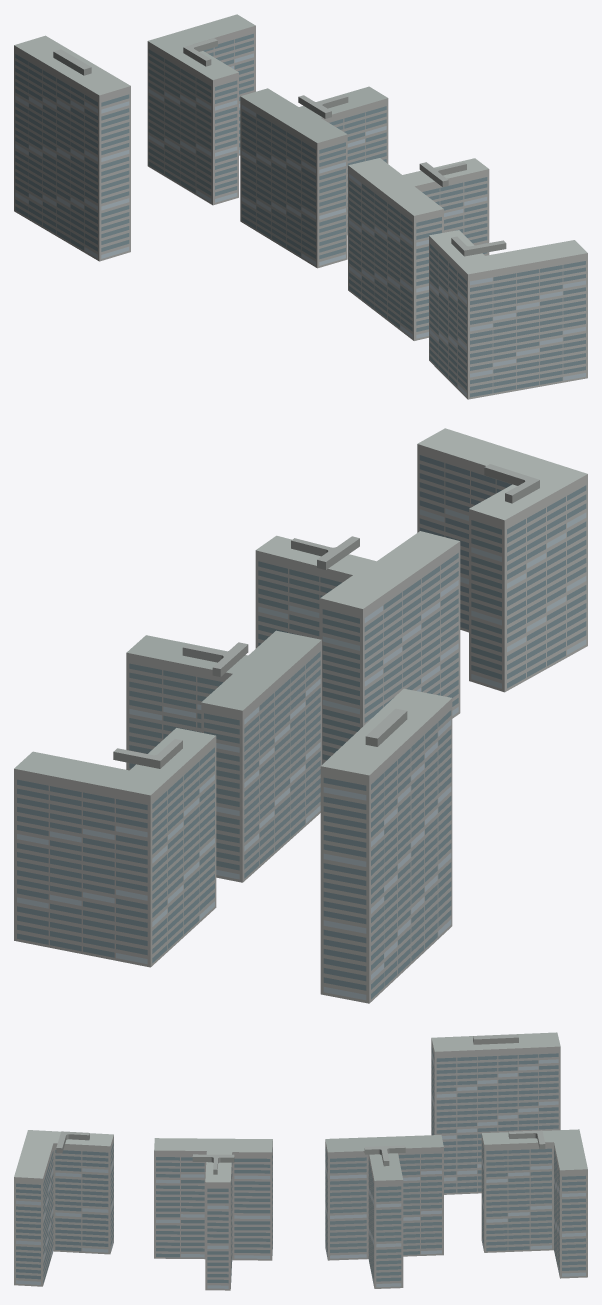
File: apt-a13183504.glb
The picture shows the model from 3 angles, top to bottom: view 1: azimuth 30°, elevation 25°; view 2: azimuth 150°, elevation 25°; view 3: azimuth 270°, elevation 25°; orthographic projection. The views are drawn at different scales.
Parts seen in each view (by area): view 1: apt-a13183504; view 2: apt-a13183504; view 3: apt-a13183504.
Boxes of the visible parts, box(x1,y1,x2,y2) form: apt-a13183504: box(14, 14, 587, 399); apt-a13183504: box(14, 428, 587, 1003); apt-a13183504: box(14, 1032, 587, 1290).
Size of the model in its own units: 111 by 67 by 234.
